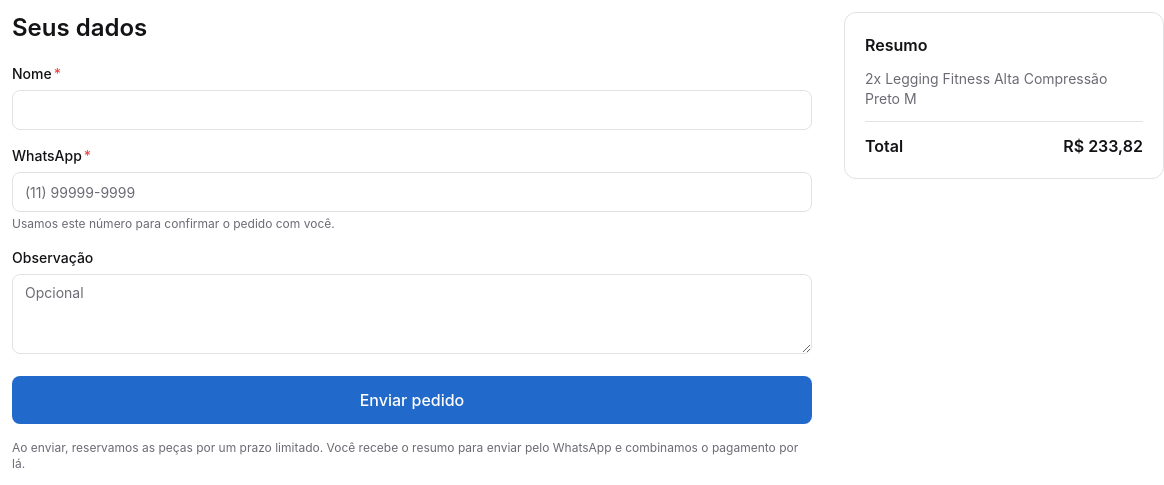
Test: CheckoutPage › bloqueia o envio com telefone inválido (validação Zod)
Type "Ana Cliente" into the field labelled "Nome*" at coordinates (412, 110), box [12,90,812,130]
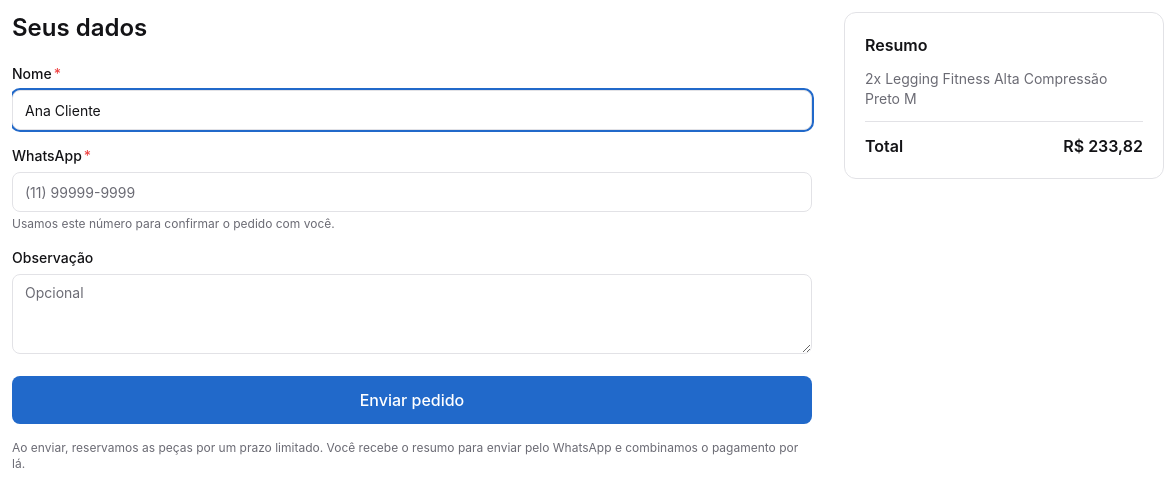
Type "123" into the field labelled "WhatsApp*" at coordinates (412, 192), box [12,172,812,212]
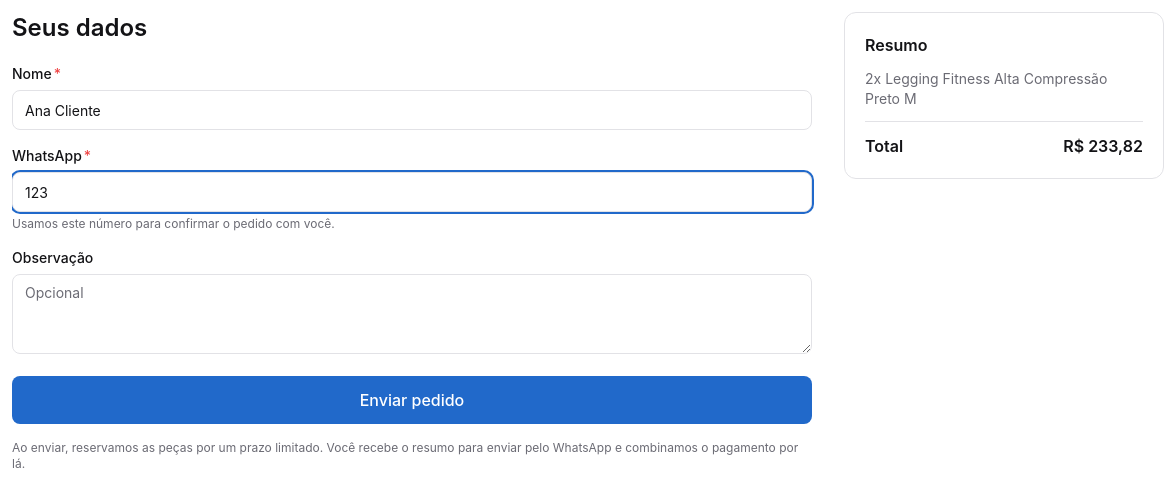
Click the button "Enviar pedido" at coordinates (412, 400), box [12,376,812,424]
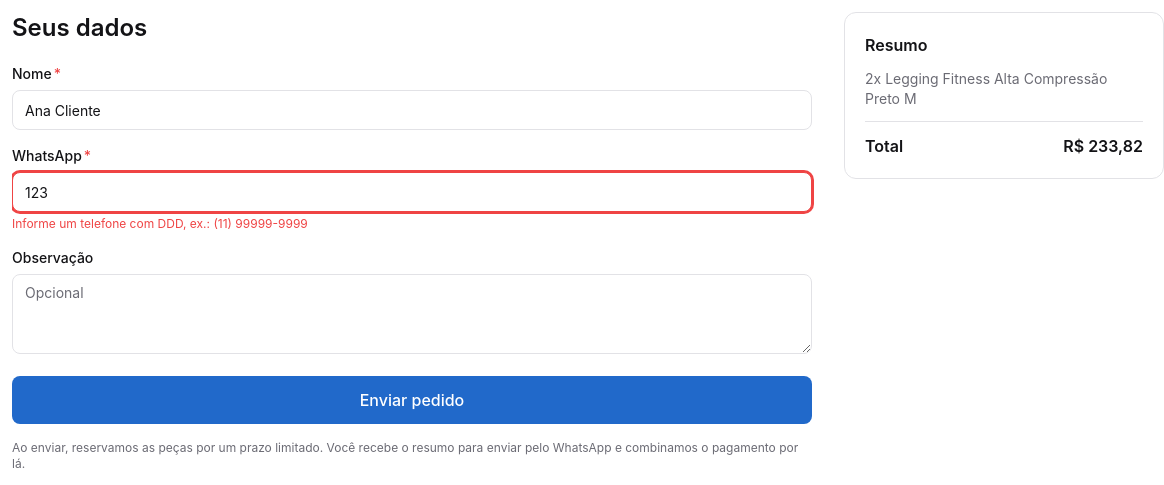
expect the text "Informe um telefone com DDD, ex.: (11) 99999-9999" is shown: met, box [12,216,308,231]
